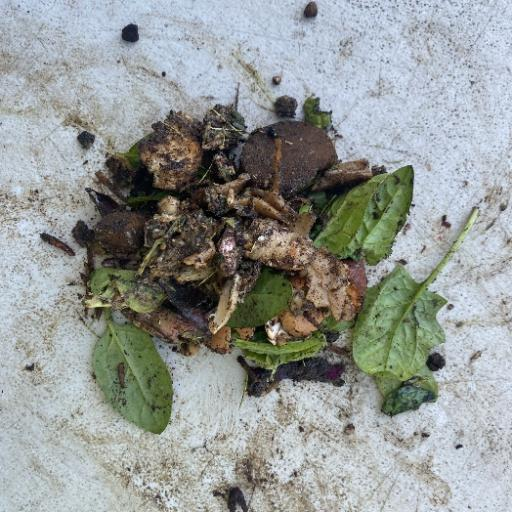Waste: (62, 89, 475, 433)
